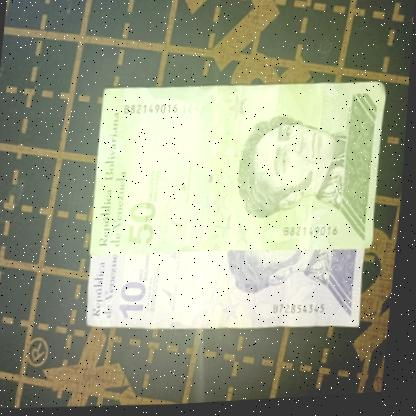fifty-front-vef: (90, 77, 389, 266)
ten-front-vef: (87, 241, 370, 344)
